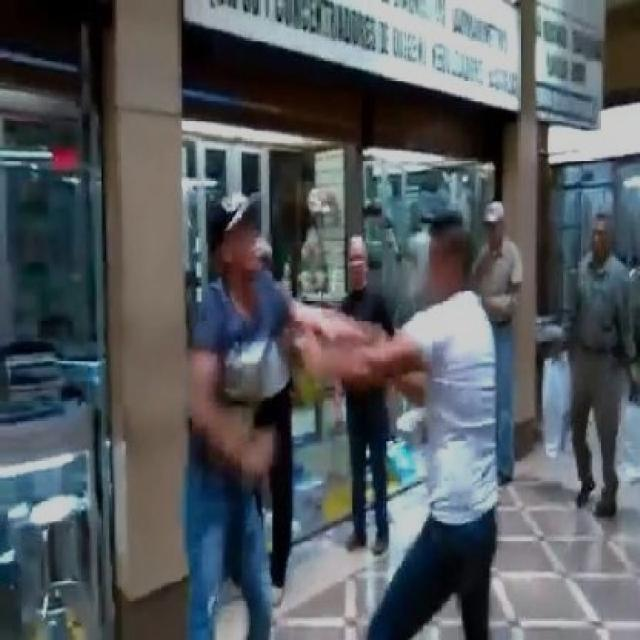fight: (183, 176, 495, 638)
non-fight: (320, 225, 415, 560), (555, 197, 638, 521), (469, 190, 531, 483)
